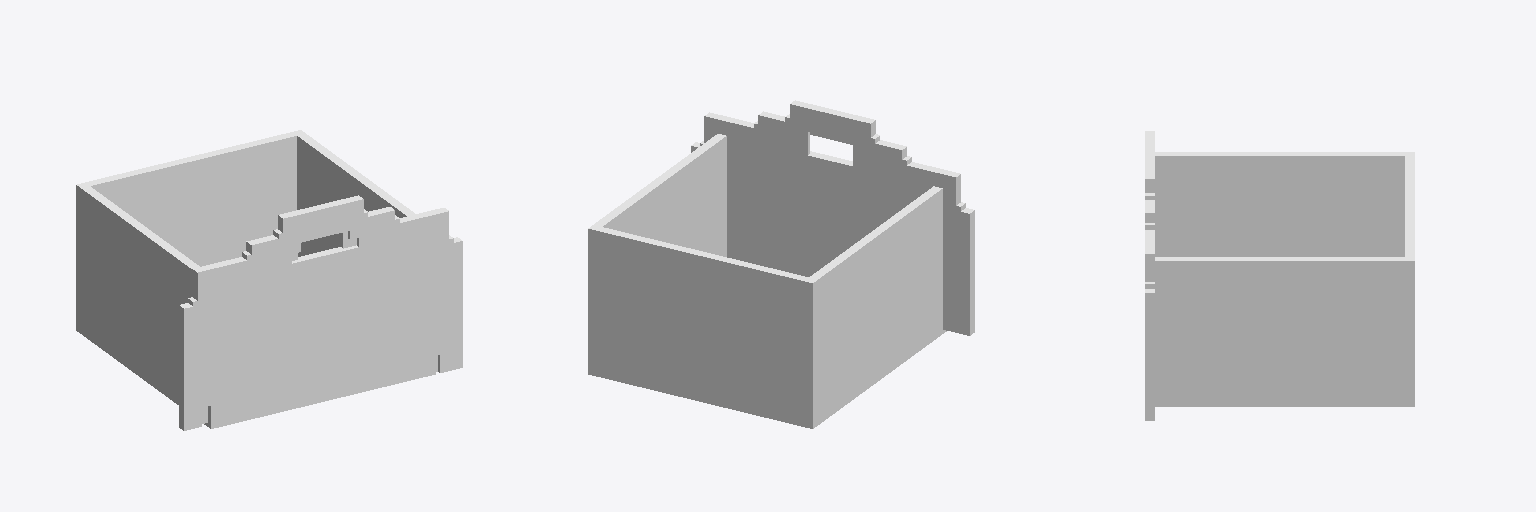
Rendered from House-6.obj.
3 renders of one model, left to right at view 1: azimuth 30°, elevation 25°; view 2: azimuth 150°, elevation 25°; view 3: azimuth 270°, elevation 25°, orthographic.
Parts seen in each view (by area): view 1: object 1; view 2: object 1; view 3: object 1.
Part boxes in pixels (bbox=[...]): object 1: bbox=[76, 130, 462, 430]; object 1: bbox=[588, 100, 974, 428]; object 1: bbox=[1145, 131, 1414, 420].
Size of the model in its own units: 6.2 by 4.1 by 5.2.